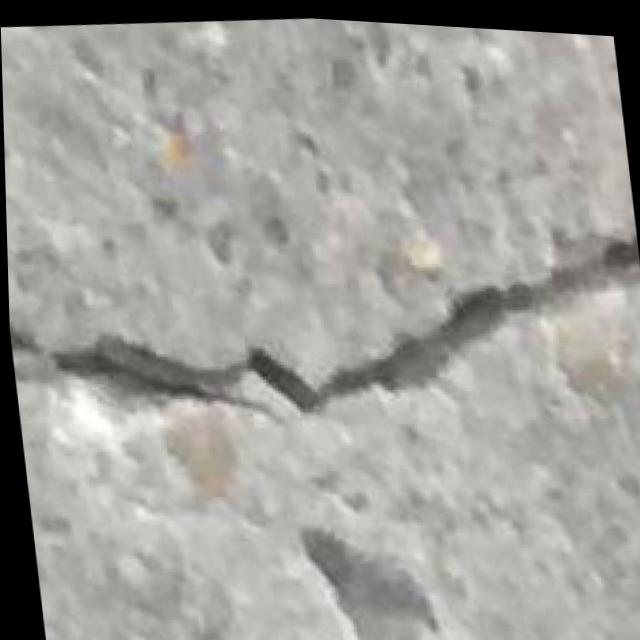Crack: (4, 192, 640, 454)
